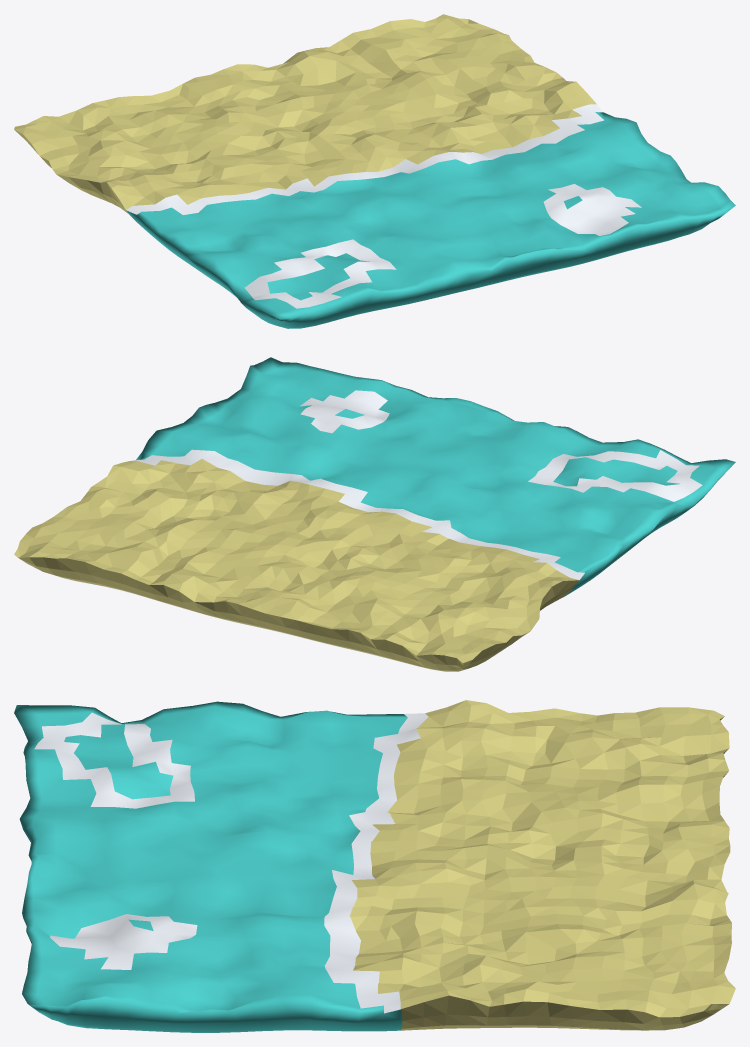
The model's file is bai bien.fbx.
The picture shows the model from 3 angles, top to bottom: view 1: azimuth 30°, elevation 25°; view 2: azimuth 150°, elevation 25°; view 3: azimuth 270°, elevation 25°; orthographic projection. The views are drawn at different scales.
Parts seen in each view (by area): view 1: SAND, SEA, FOAM; view 2: SAND, SEA, FOAM; view 3: SAND, SEA, FOAM.
Boxes of the visible parts, box(x1,y1,x2,y2) form: SAND: box(14, 14, 596, 216); SEA: box(126, 112, 735, 328); FOAM: box(126, 104, 641, 308); SAND: box(14, 459, 579, 671); SEA: box(136, 357, 735, 596); FOAM: box(131, 390, 702, 579); SAND: box(349, 700, 735, 1030); SEA: box(14, 701, 407, 1032); FOAM: box(34, 712, 428, 1013).
Bounding box in the file's own units: 12554 × 1186 × 12481.
